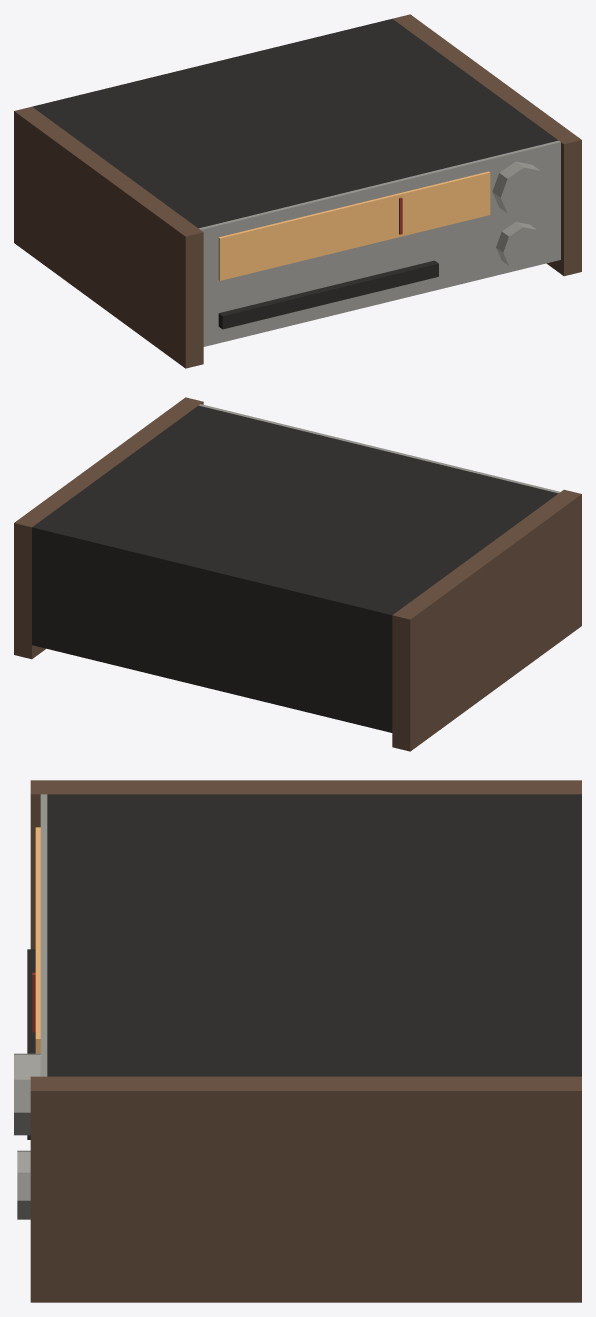
The model's file is receiver.glb.
The picture shows the model from 3 angles, top to bottom: view 1: azimuth 30°, elevation 25°; view 2: azimuth 150°, elevation 25°; view 3: azimuth 270°, elevation 25°; orthographic projection. The views are drawn at different scales.
Visible parts, largest first — view 1: plastic-dark, wood, brushed, emissive-warm; view 2: plastic-dark, wood, brushed; view 3: plastic-dark, wood, brushed, emissive-warm.
Part boxes in pixels (x1,y1,x2,y2): plastic-dark: (32, 19, 558, 329); wood: (14, 14, 581, 368); brushed: (198, 140, 560, 346); emissive-warm: (218, 171, 490, 280); plastic-dark: (32, 405, 558, 732); wood: (14, 397, 581, 751); brushed: (198, 404, 560, 493); plastic-dark: (27, 794, 581, 1139); wood: (30, 780, 581, 1302); brushed: (14, 794, 47, 1219); emissive-warm: (35, 827, 40, 1053).
Size of the model in its own units: 0.44 by 0.14 by 0.34.
